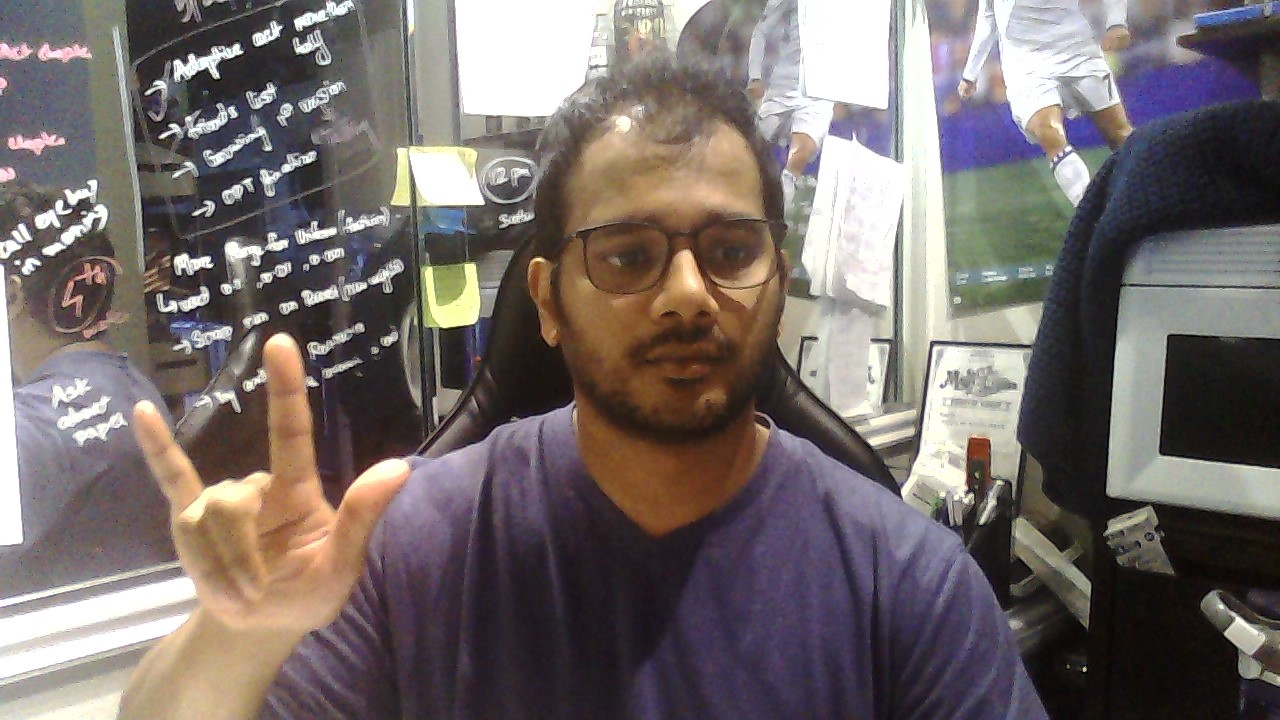ILoveYou: (131, 333, 411, 633)
